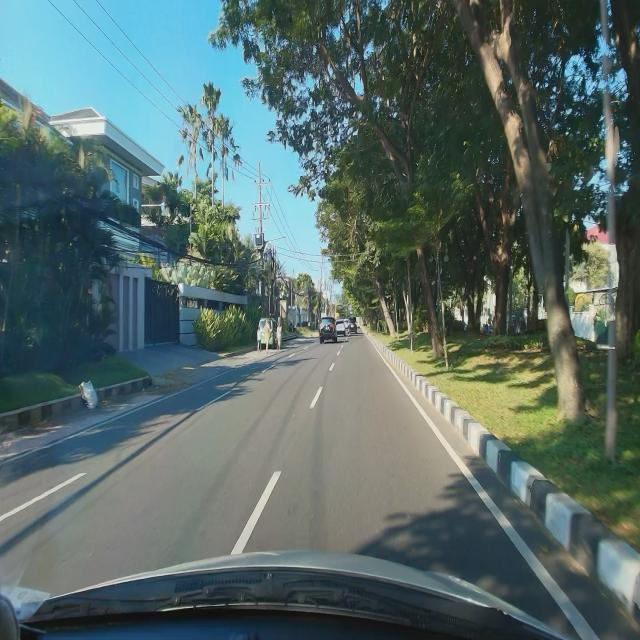car: (318, 317, 338, 344)
